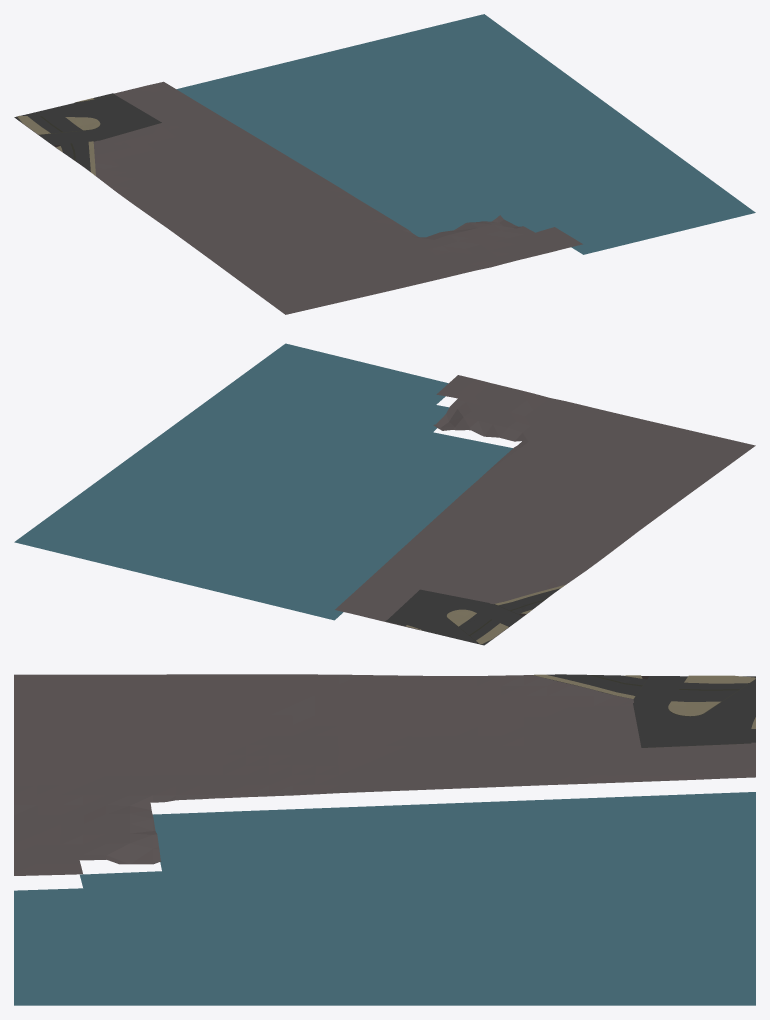
The picture shows the model from 3 angles, top to bottom: view 1: azimuth 30°, elevation 25°; view 2: azimuth 150°, elevation 25°; view 3: azimuth 270°, elevation 25°; orthographic projection. The views are drawn at different scales.
Visible parts, largest first — view 1: c_m13_p11; view 2: c_m13_p11; view 3: c_m13_p11.
Part boxes in pixels (x1=…): c_m13_p11: x1=14, y1=14, x2=755, y2=314; c_m13_p11: x1=14, y1=343, x2=755, y2=645; c_m13_p11: x1=14, y1=674, x2=755, y2=1005.
Bounding box in the file's own units: 128 × 3.36 × 128.
